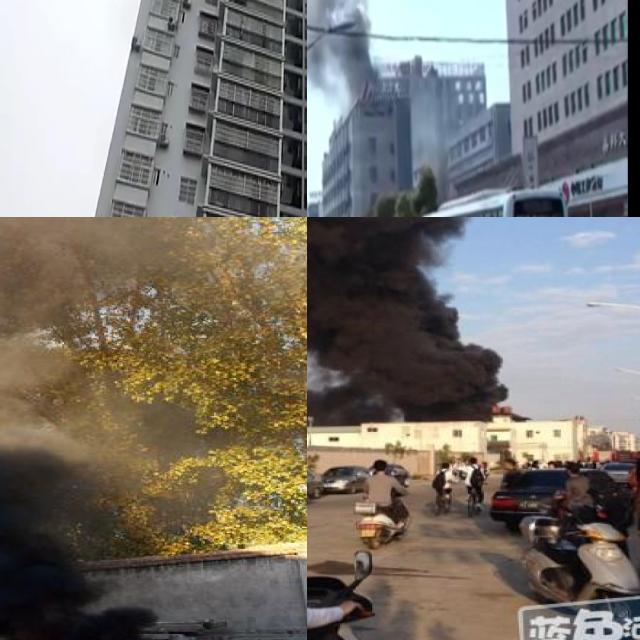smoke: (0, 217, 212, 640), (307, 217, 513, 419), (307, 0, 373, 97)
